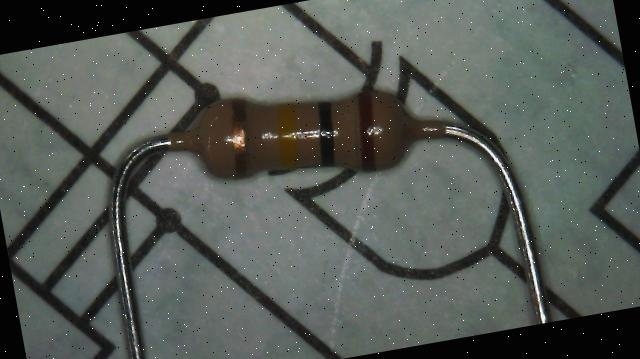black: (312, 99, 343, 168)
brown: (350, 88, 384, 170)
gold: (222, 96, 258, 180)
resistor: (164, 67, 432, 221)
yellow: (272, 101, 303, 166)
